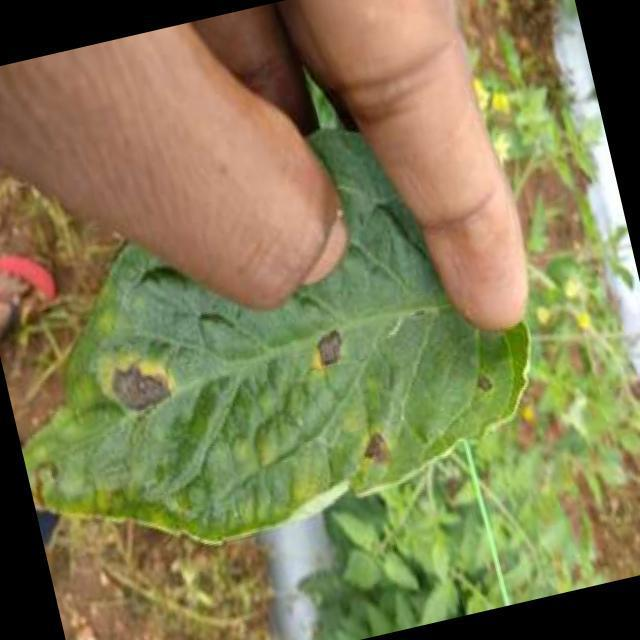Bacterial Spot: (59, 256, 512, 534)
